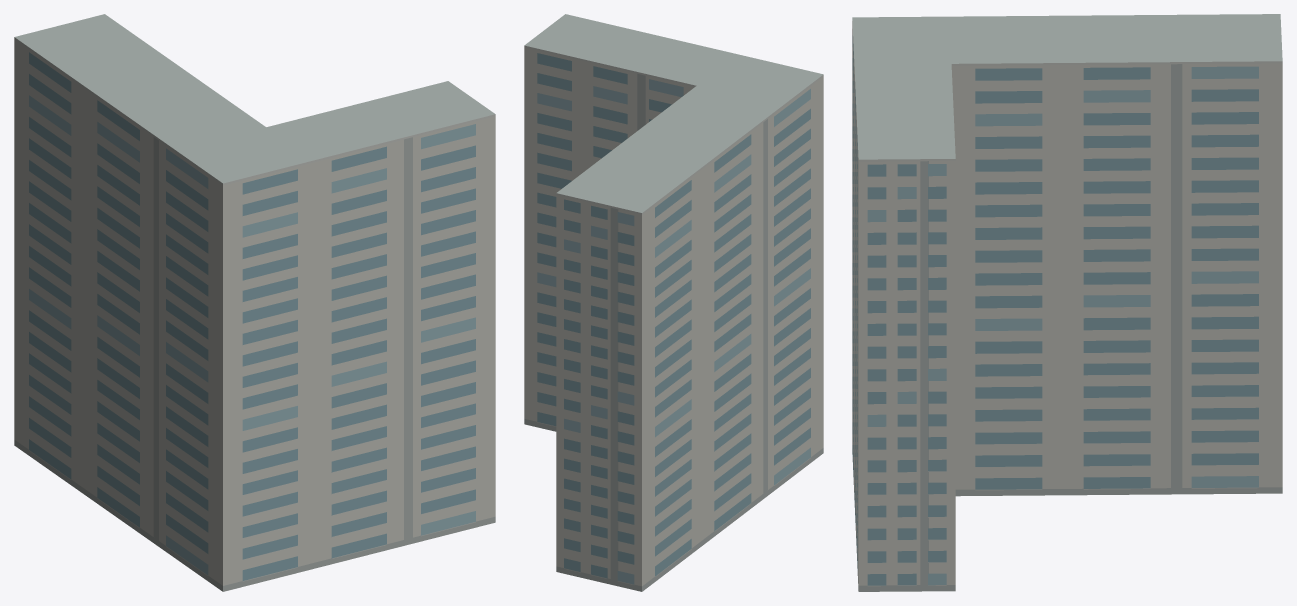
The model's file is residential-ecca2989-cc7d-4c05-8e77-e5a20f7e3ada.glb.
3 renders of one model, left to right at view 1: azimuth 30°, elevation 25°; view 2: azimuth 150°, elevation 25°; view 3: azimuth 270°, elevation 25°, orthographic. The views are drawn at different scales.
Parts seen in each view (by area): view 1: residential-ecca2989-cc7d-4c05-8e77-e5a20f7e3ada.tmp; view 2: residential-ecca2989-cc7d-4c05-8e77-e5a20f7e3ada.tmp; view 3: residential-ecca2989-cc7d-4c05-8e77-e5a20f7e3ada.tmp.
Part boxes in pixels (x1=…): residential-ecca2989-cc7d-4c05-8e77-e5a20f7e3ada.tmp: x1=14, y1=14, x2=495, y2=591; residential-ecca2989-cc7d-4c05-8e77-e5a20f7e3ada.tmp: x1=524, y1=14, x2=823, y2=591; residential-ecca2989-cc7d-4c05-8e77-e5a20f7e3ada.tmp: x1=852, y1=14, x2=1282, y2=591.
Size of the model in its own units: 36.85 by 51 by 46.02.
